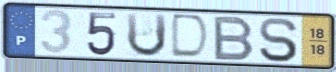3: (39, 8, 78, 57)
5: (84, 11, 119, 56)
B: (211, 15, 257, 62)
D: (168, 12, 213, 61)
S: (257, 16, 300, 64)
U: (124, 11, 169, 59)
